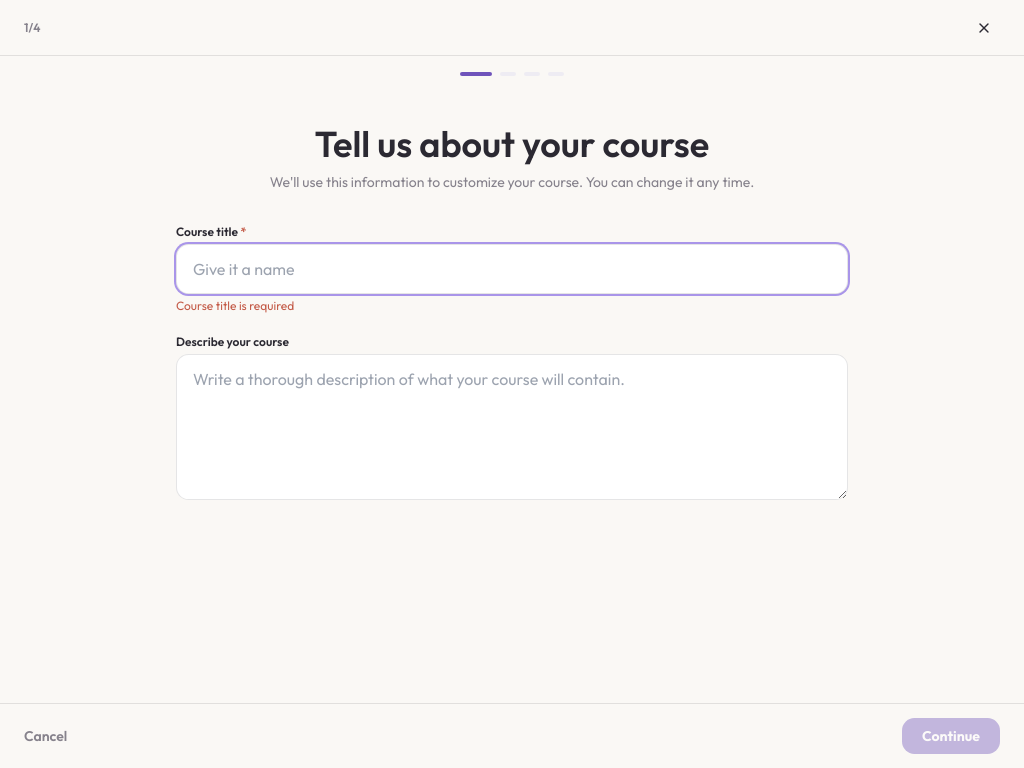
it: T-18 wizard outline methods › K2 copy lists only my courses, and creating passes the source sections, lessons and lesson text in order
Later steps or results of the test are not shown.
Type "Copied course" into the field with placeholder "Give it a name" at point(512, 269), box [176,244,848,294]
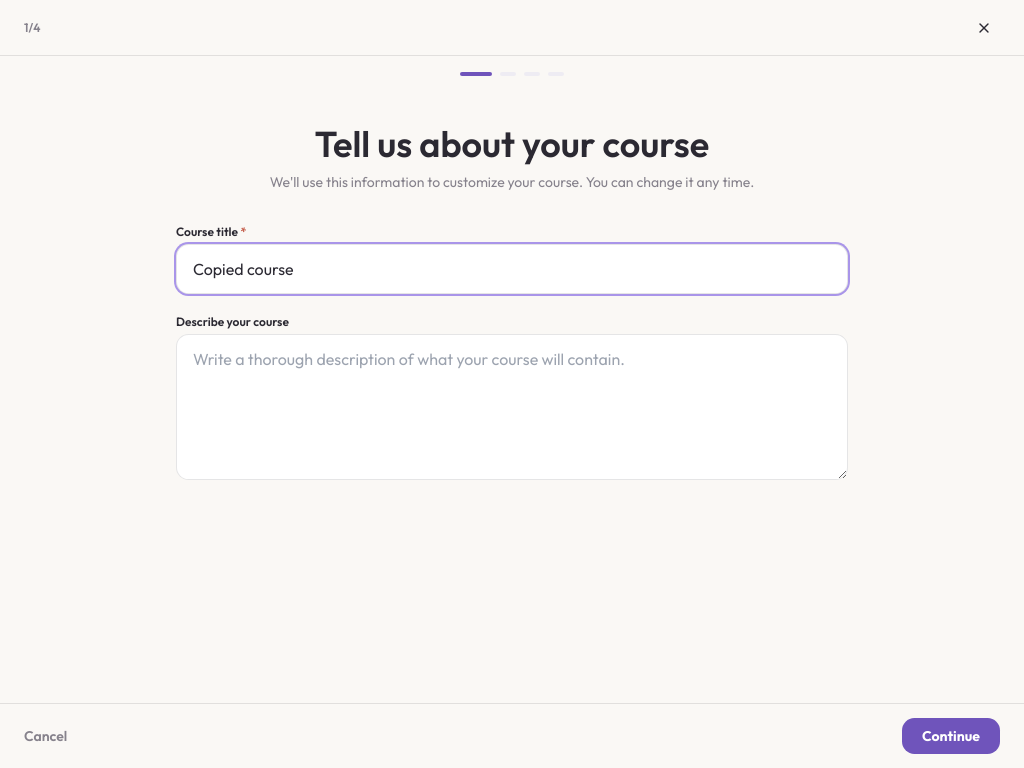
Click the button "Continue" at point(951, 736), box [902,718,1000,754]
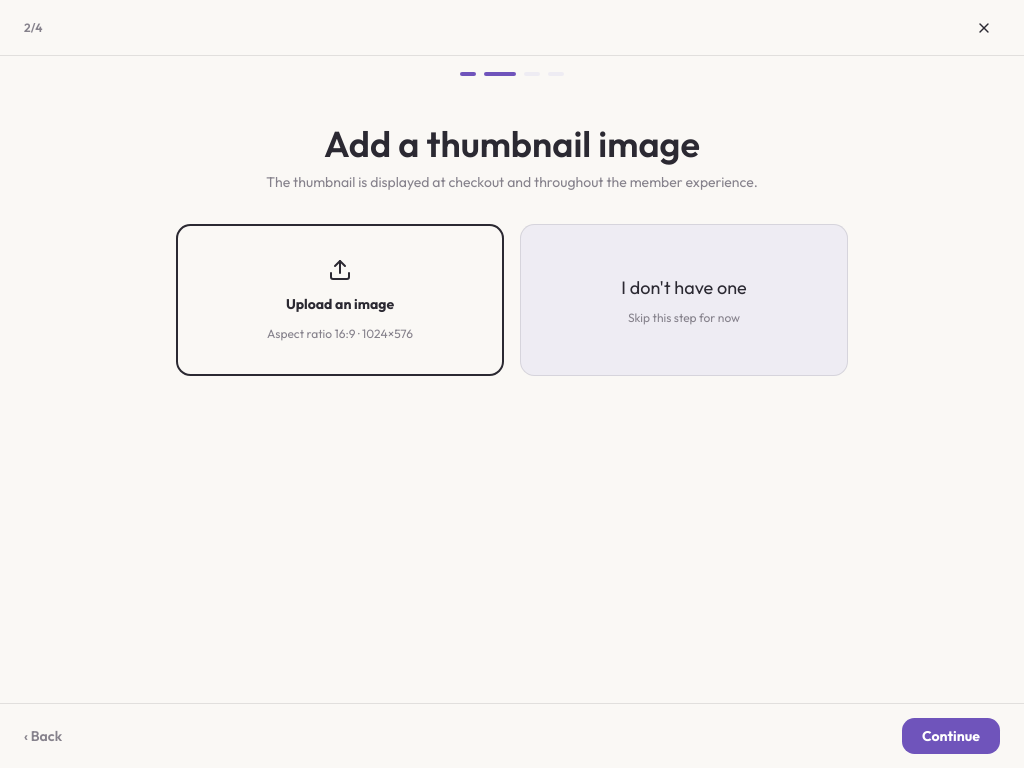
Click the button "Continue" at point(951, 736), box [902,718,1000,754]
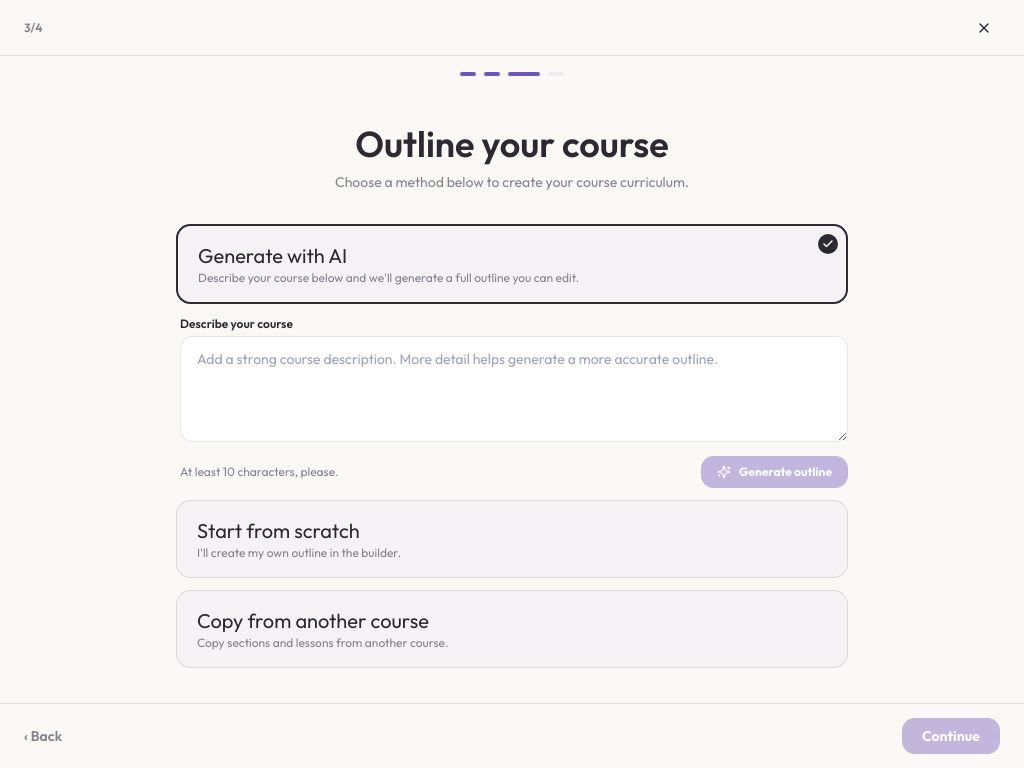
expect the heading "Outline your course" is shown: met, box [355,121,669,166]
Click the text "Copy from another course" at point(313, 620), box [197,608,429,633]
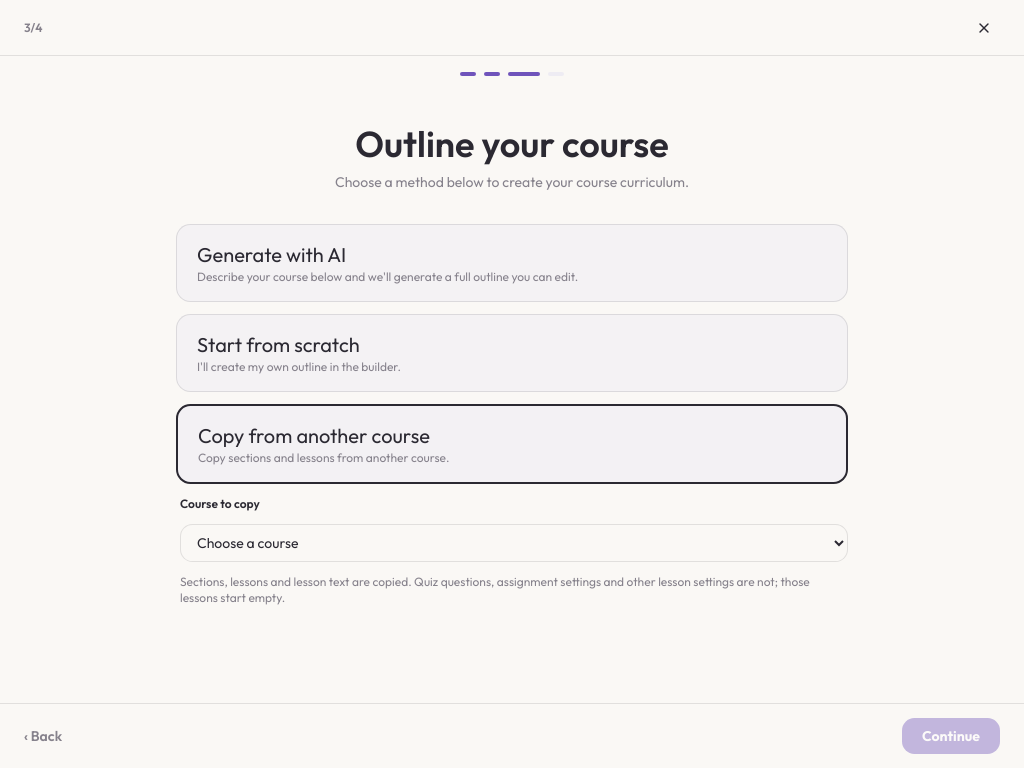
expect the dropdown labelled "Course to copy" is enabled: met
Select "Source course" in the dropdown labelled "Course to copy" at point(514, 543), box [180,524,848,562]
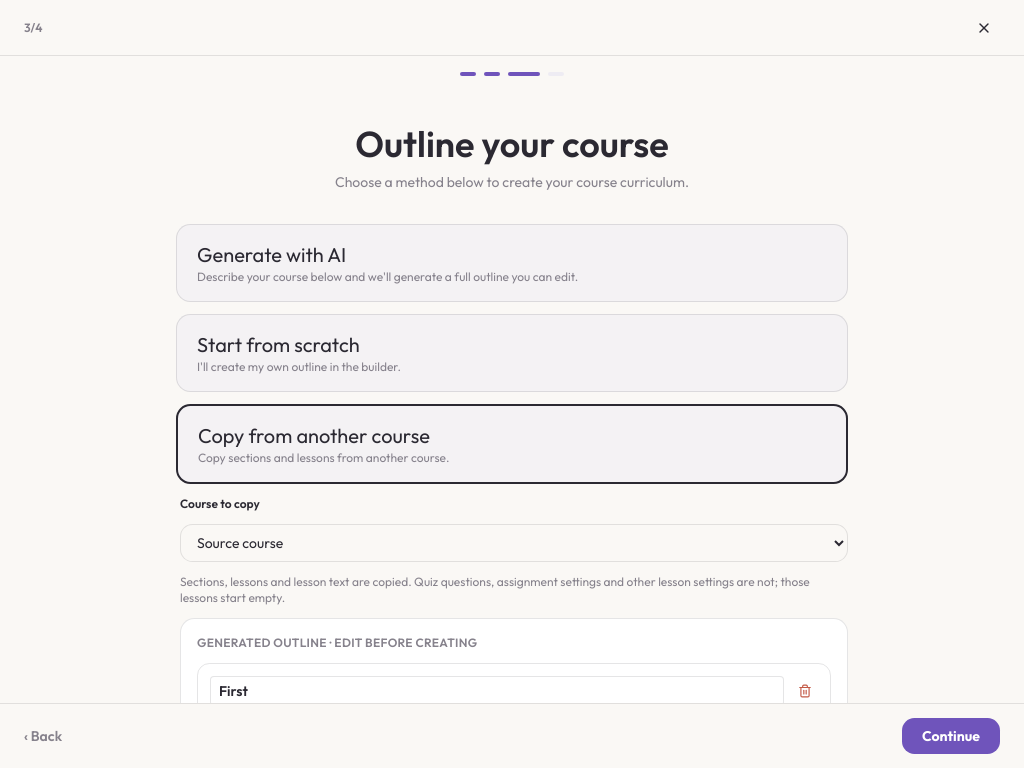
expect the button "Continue" is enabled: met
Click the button "Continue" at point(951, 736), box [902,718,1000,754]
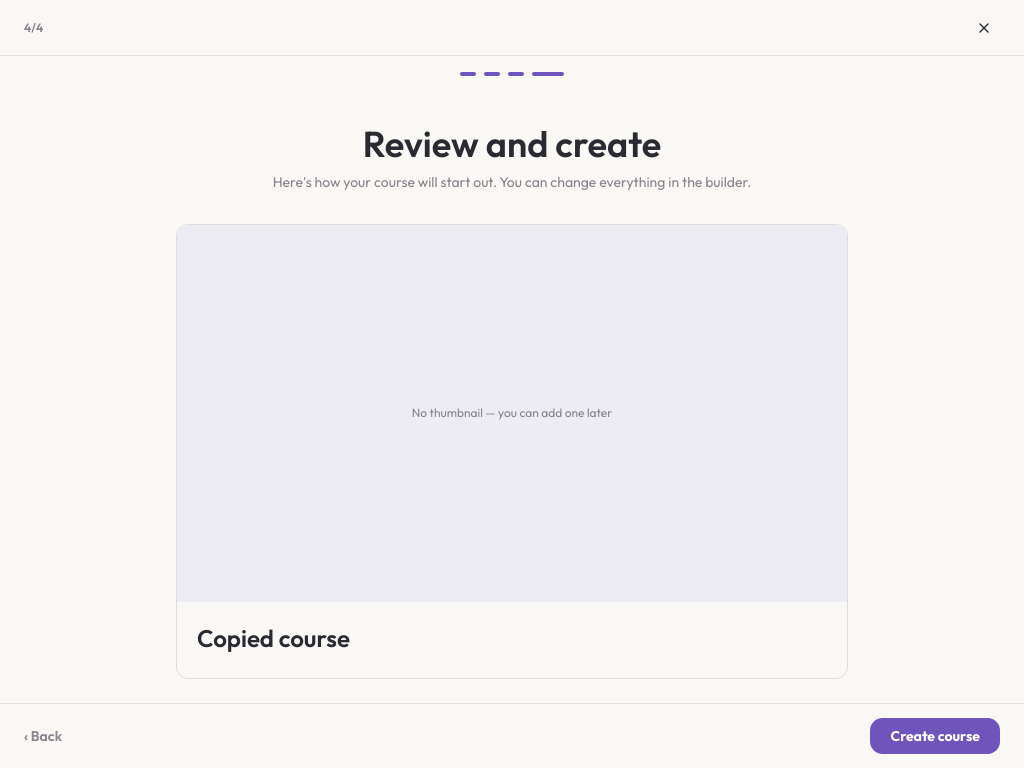
expect the heading "Review and create" is shown: met, box [363,121,661,166]
